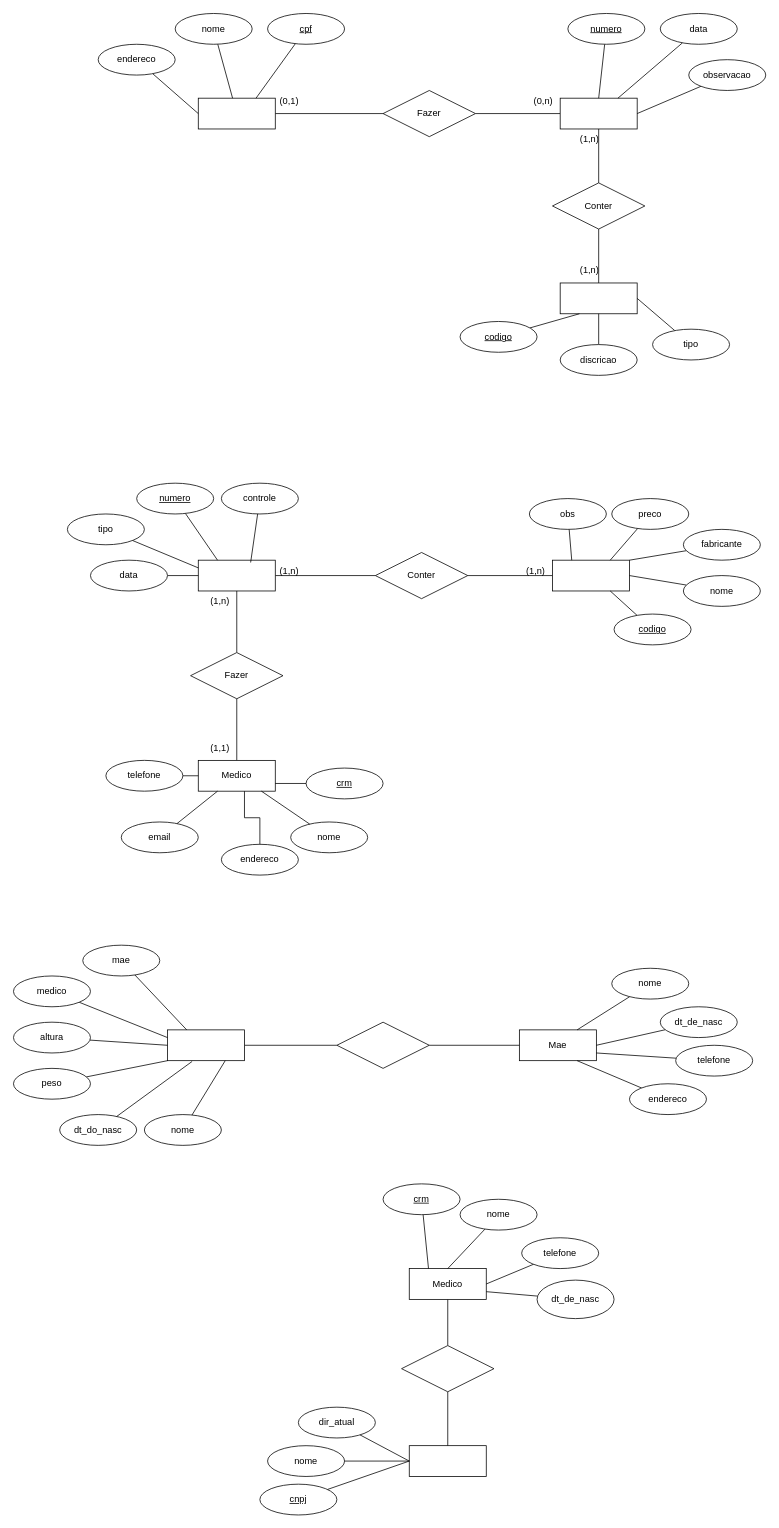
The diagram is 779 pixels wide and 1528 high, and some of its shapes have lost their labels. The centre of each missing label's shape, as x and y in pixels:
"Bebê" belongs at point 205,1045.
"Empregado" belongs at point 236,113.
"Gera" belongs at point 382,1044.
"Hospital" belongs at point 447,1460.
"Pedido" belongs at point 598,113.
"Produto" belongs at point 598,298.
"Receita" belongs at point 236,575.
"Remedio" belongs at point 590,575.
"Trabalha" belongs at point 447,1368.
